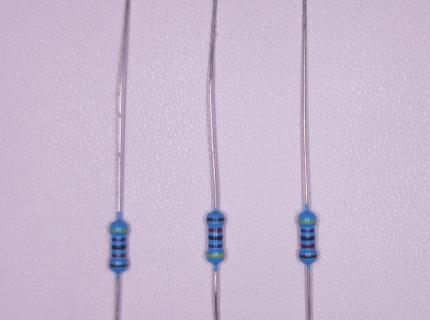Black band: (208, 236, 223, 241), (301, 236, 314, 241), (112, 245, 126, 249)
Brown band: (207, 217, 224, 222), (110, 264, 128, 267), (300, 255, 317, 258)
Red band: (301, 244, 315, 249), (112, 253, 126, 257), (208, 228, 222, 232)
Violet band: (301, 228, 315, 233), (208, 244, 223, 248), (112, 237, 126, 241)
Yellow band: (110, 228, 128, 232), (207, 253, 224, 257), (298, 220, 316, 223)
